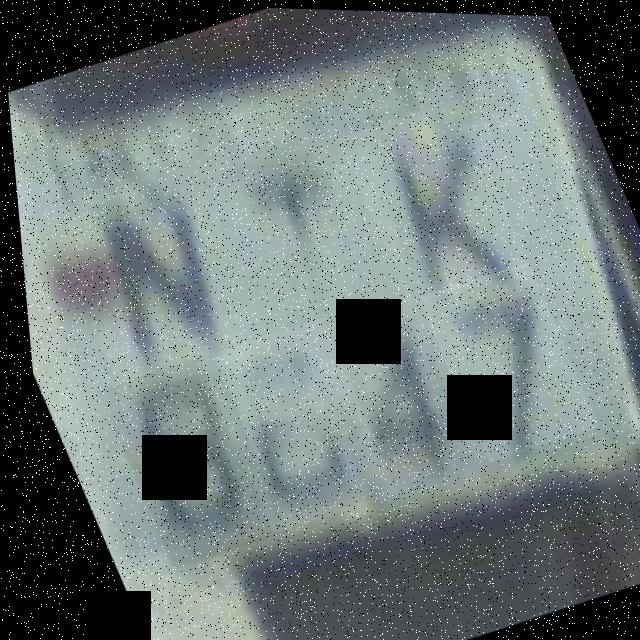0: (189, 311, 392, 535)
4: (300, 284, 490, 504)
7: (410, 255, 594, 462)
8: (87, 348, 282, 571)
K: (331, 92, 528, 305)
N: (48, 198, 241, 400)
T: (194, 139, 375, 351)
